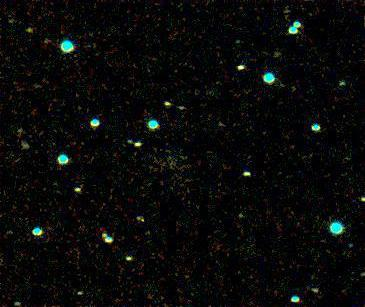star: (130, 206, 160, 236)
